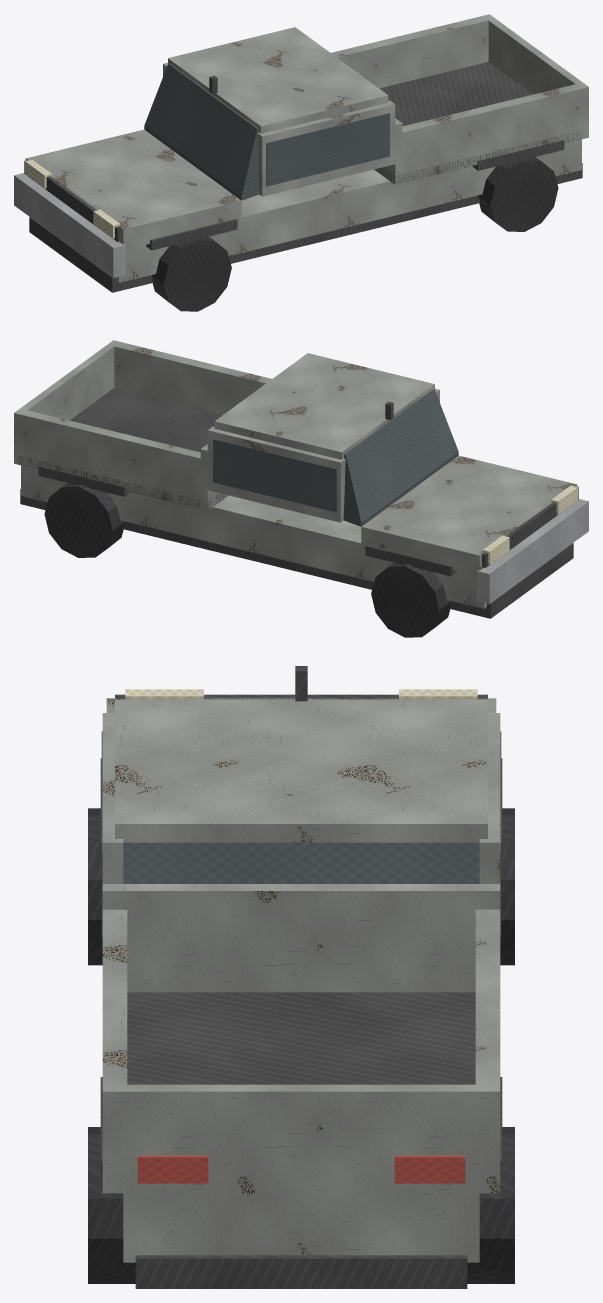
Rendered from car_pickup.glb.
3 renders of one model, top to bottom at view 1: azimuth 30°, elevation 25°; view 2: azimuth 150°, elevation 25°; view 3: azimuth 270°, elevation 25°, orthographic. The views are drawn at different scales.
Parts seen in each view (by area): view 1: NC_car_pickup; view 2: NC_car_pickup; view 3: NC_car_pickup.
Part boxes in pixels (x1,y1,x2,y2): NC_car_pickup: (14,14,588,311); NC_car_pickup: (14,340,588,637); NC_car_pickup: (88,666,514,1288).
Bounding box in the file's own units: 5.32 × 1.9 × 2.06.
7 materials, 7 textured.
